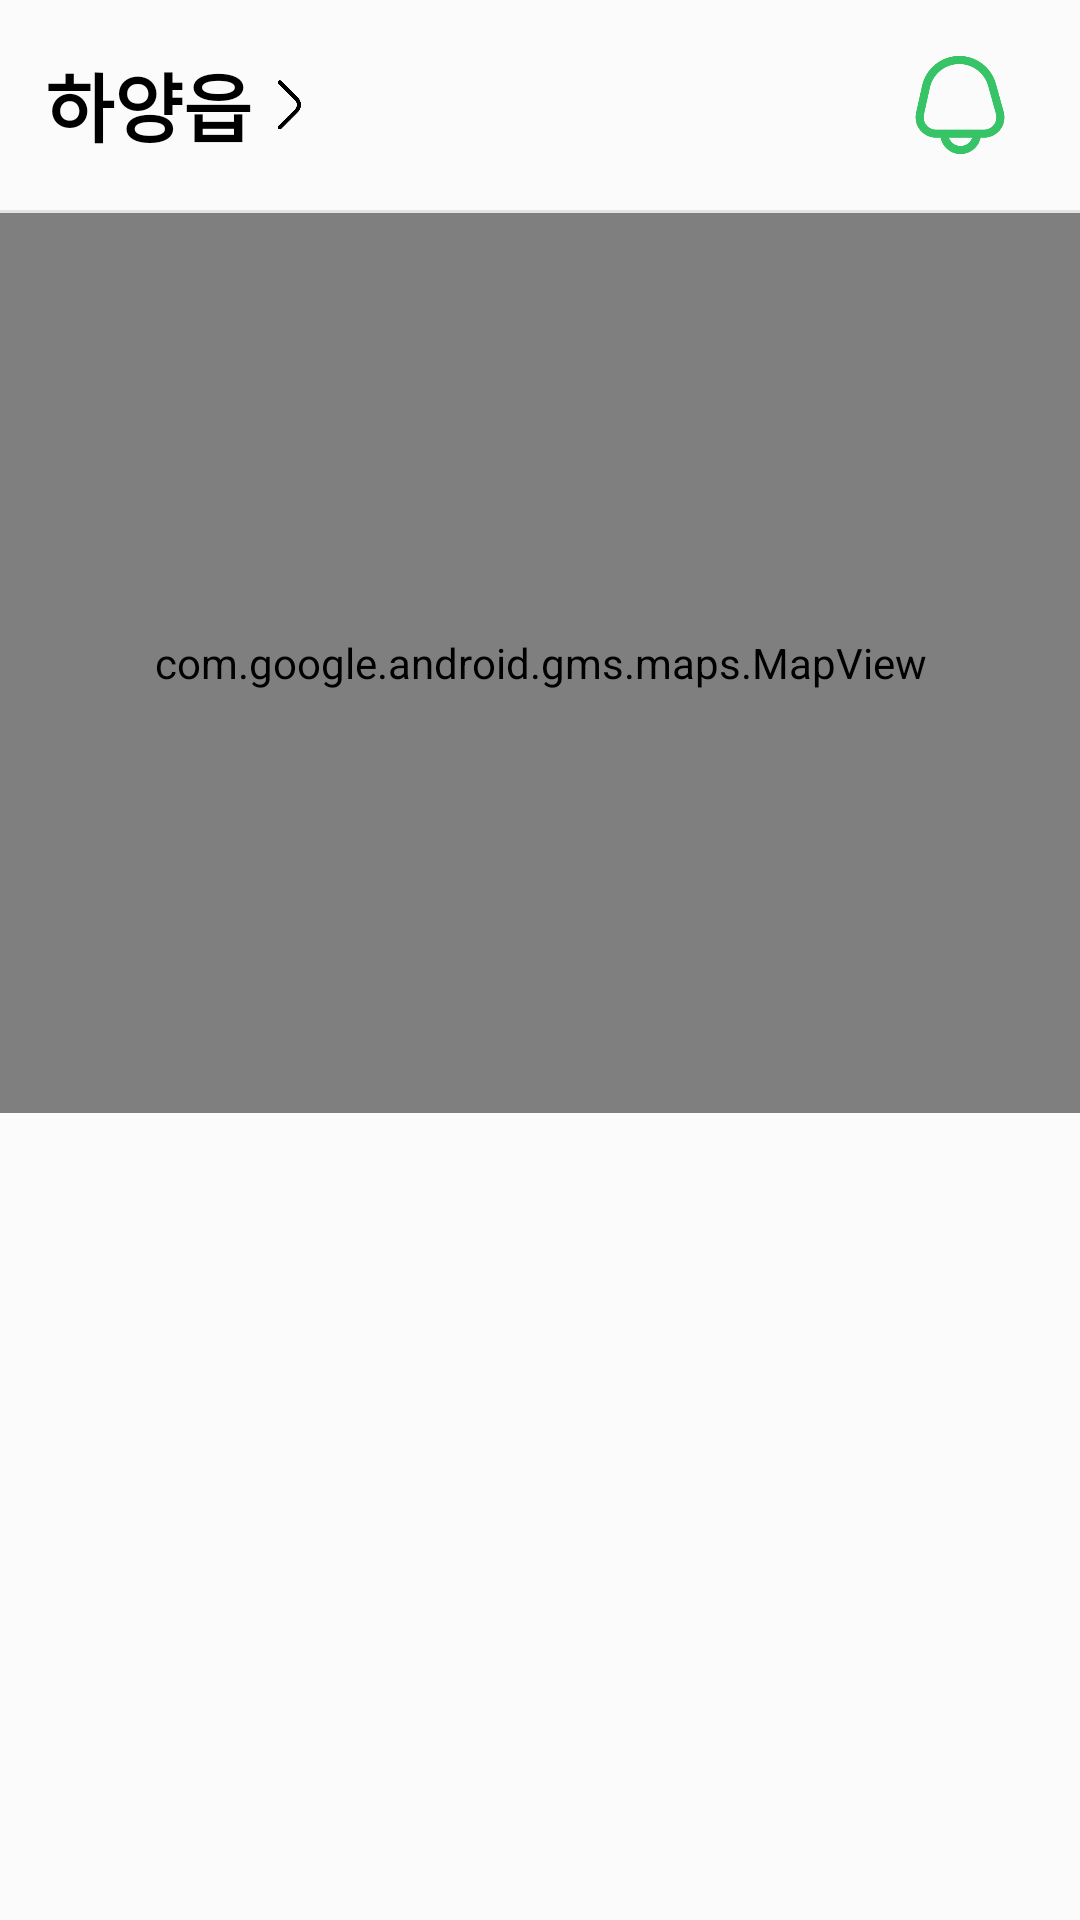

Where icons sit on this 1080 x 1920 app screen, as (x1, y1, x2, y2):
alarm: (915, 56, 1005, 154)
rightmore: (278, 80, 301, 129)
